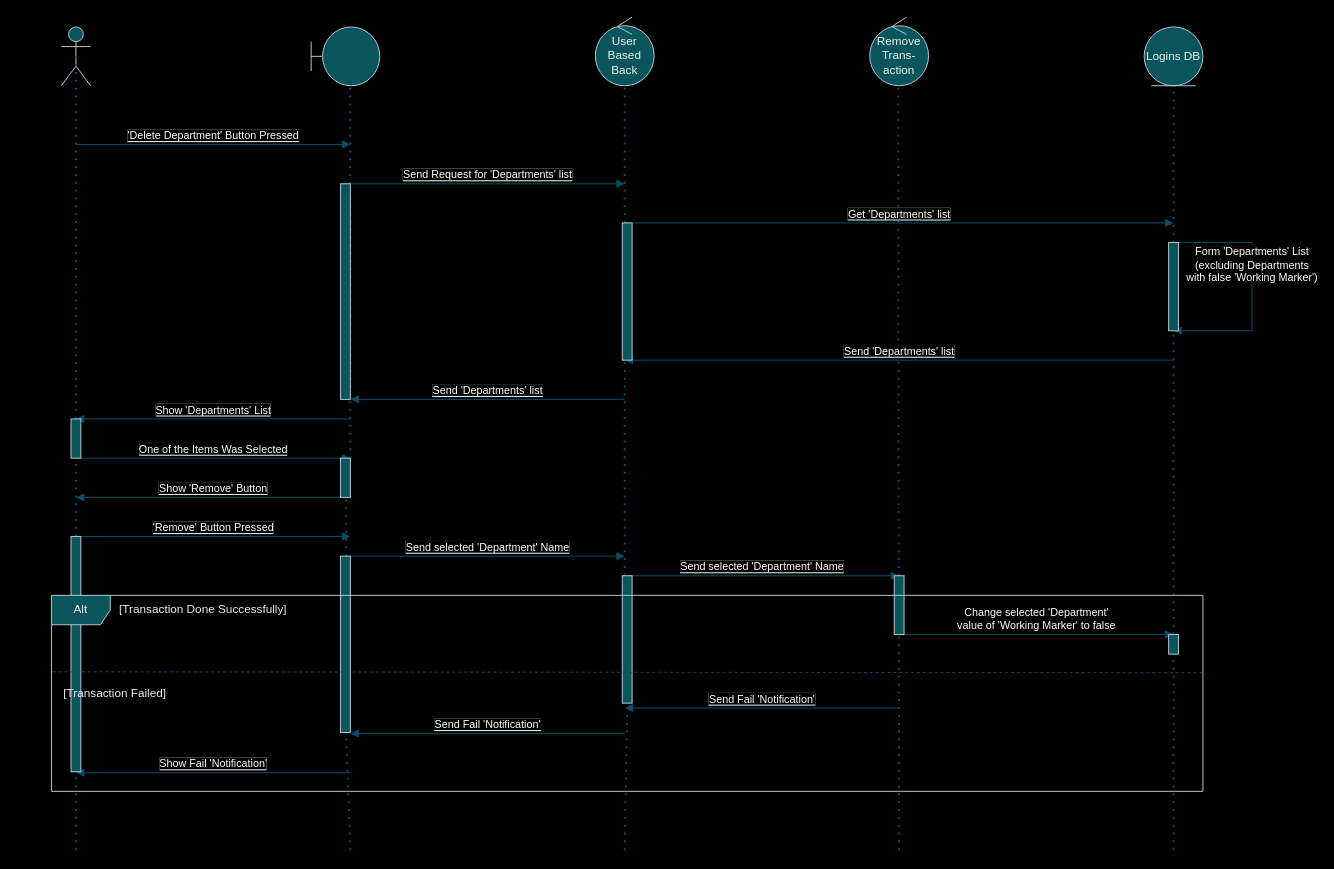
Image size: 1334x869. Some labels were removed from this diagram. Each missing label, with the centre of its shape:
Admin: (75,56)
Ui: (345,56)
